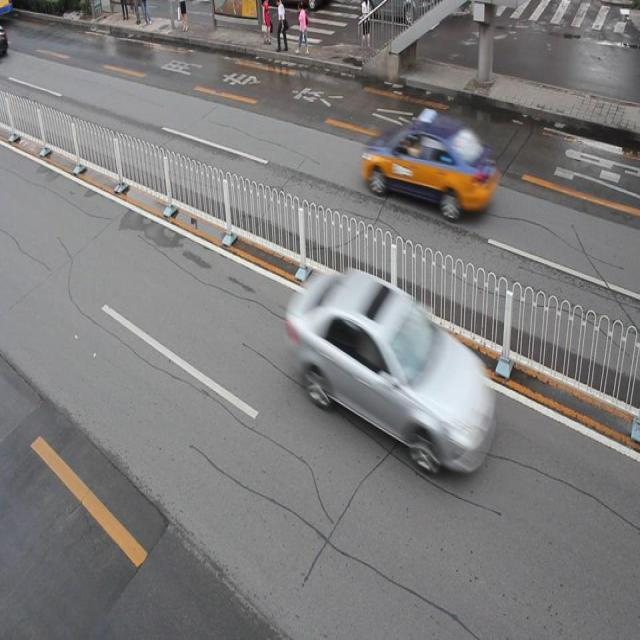car: (285, 264, 492, 473), (362, 111, 495, 217)
